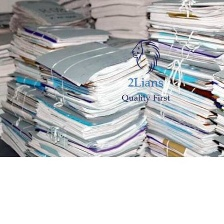book: (24, 40, 148, 159), (0, 22, 106, 157), (145, 0, 224, 156), (6, 0, 87, 35), (89, 0, 156, 40)
